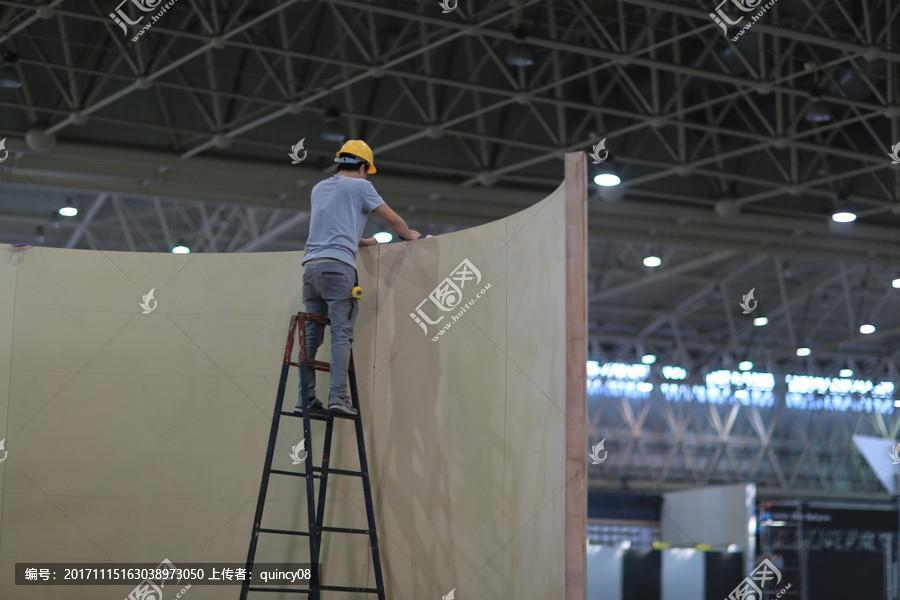helmet: (338, 135, 376, 178)
